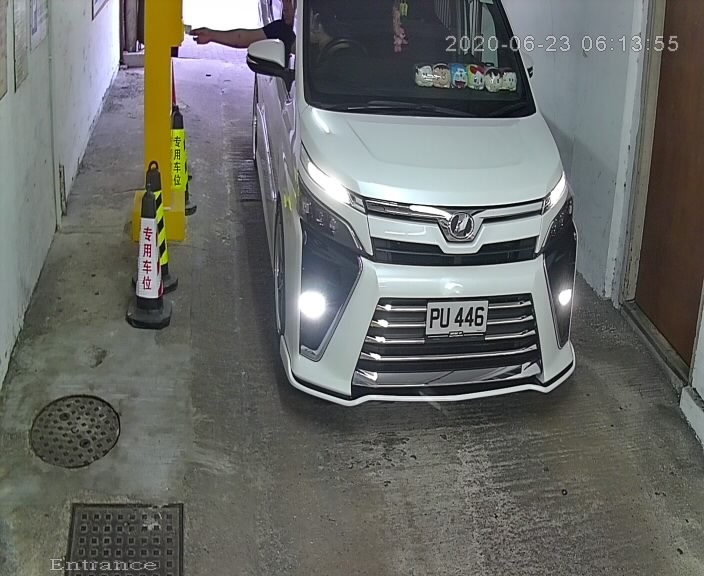privatecar: (233, 1, 604, 430)
